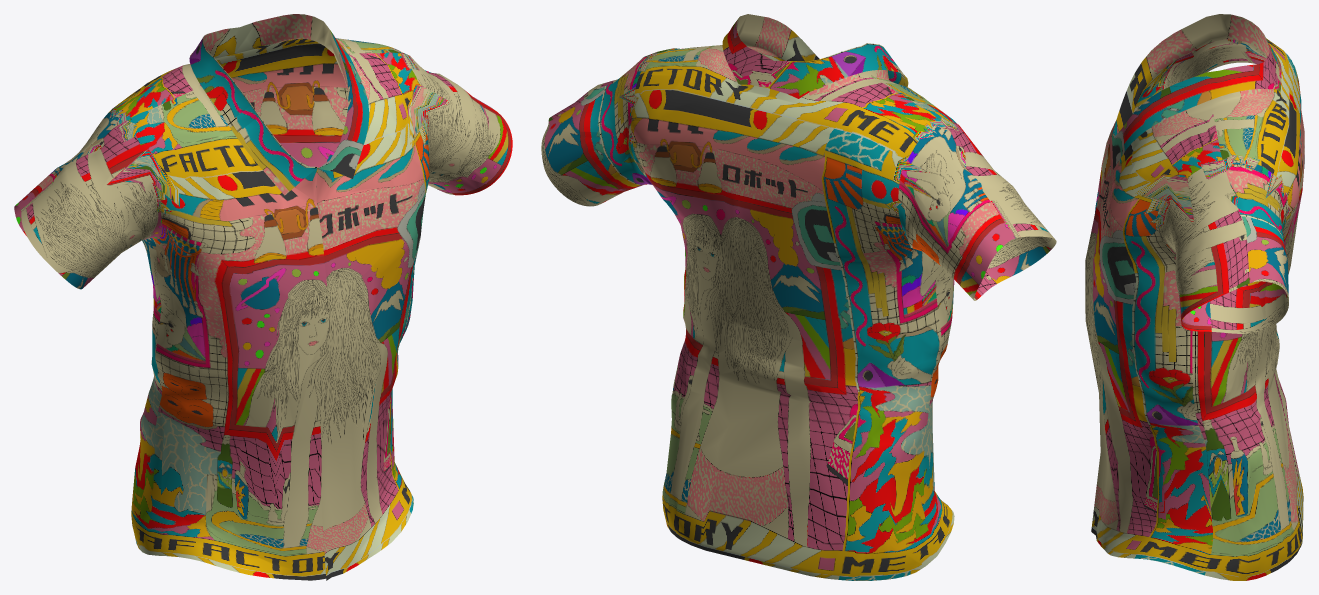
File: WSC_shirt.glb
3 renders of one model, left to right at view 1: azimuth 30°, elevation 25°; view 2: azimuth 150°, elevation 25°; view 3: azimuth 270°, elevation 25°, orthographic. The views are drawn at different scales.
Parts seen in each view (by area): view 1: Long Collar Shirt; view 2: Long Collar Shirt; view 3: Long Collar Shirt.
Part boxes in pixels (left/top/right/bottom): Long Collar Shirt: left=14, top=14, right=512, bottom=580; Long Collar Shirt: left=541, top=14, right=1056, bottom=580; Long Collar Shirt: left=1085, top=14, right=1304, bottom=580.
Bounding box in the file's own units: 0.5788 × 0.5762 × 0.2327.
Materials: 1 (1 with a texture image).
